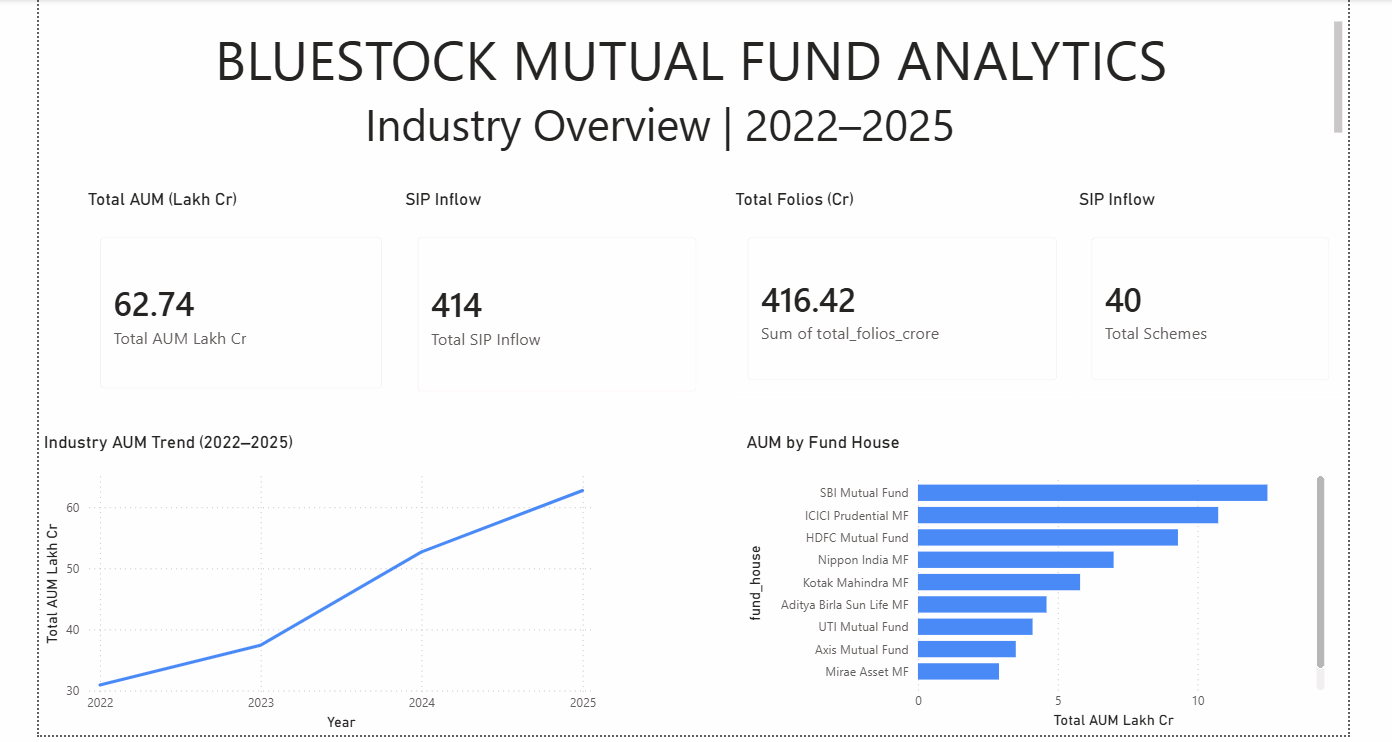

The dashboard page shown, as its layout file describes it:
{"tool":"powerbi","page":{"name":"Industry Overview","canvas":[1280,720],"ordinal":0},"visuals":[{"type":"cardVisual","title":"Total AUM (Lakh Cr)","fields":{"Data":["Aum.Total AUM Lakh Cr","Aum.Total AUM Lakh Cr","Aum.Total AUM Lakh Cr"]},"box":[42.9,185.7,310,212.9],"z":0},{"type":"cardVisual","title":"      SIP Inflow ","fields":{"Data":["SIP.Total SIP Inflow"]},"box":[352.9,185.7,307.1,215.7],"z":1000},{"type":"cardVisual","title":"Total Folios (Cr)","fields":{"Data":["Sum(Folios.total_folios_crore)"]},"box":[675.7,185.7,337.1,204.3],"z":2000},{"type":"cardVisual","title":"SIP Inflow","fields":{"Data":["Fund.Total Schemes"]},"box":[1012.9,185.7,267.1,204.3],"z":3000},{"type":"textbox","box":[94.3,17.1,1185.7,151.4],"z":4000},{"type":"barChart","title":"AUM by Fund House","fields":{"Category":["Aum.fund_house"],"Y":["Aum.Total AUM Lakh Cr"]},"box":[687.1,422.9,575.7,295.7],"z":5000},{"type":"lineChart","title":"Industry AUM Trend (2022–2025)","fields":{"Y":["Aum.Total AUM Lakh Cr"],"Category":["Aum.date.Variation.Date Hierarchy.Year","Aum.date.Variation.Date Hierarchy.Quarter","Aum.date.Variation.Date Hierarchy.Month","Aum.date.Variation.Date Hierarchy.Day"]},"box":[0,422.9,550,297.1],"z":6000}]}

Visuals, with their boxes on the page's 1280x720 design canvas (x1, y1, x2, y2). These are canvas units, not pixel positions in the 1392x742 screenshot, which may show the page scaled, cropped or inside an application window:
"Total AUM (Lakh Cr)" cardVisual: (43,186,353,399)
"      SIP Inflow " cardVisual: (353,186,660,401)
"Total Folios (Cr)" cardVisual: (676,186,1013,390)
"SIP Inflow" cardVisual: (1013,186,1280,390)
textbox: (94,17,1280,168)
"AUM by Fund House" barChart: (687,423,1263,719)
"Industry AUM Trend (2022–2025)" lineChart: (0,423,550,720)
